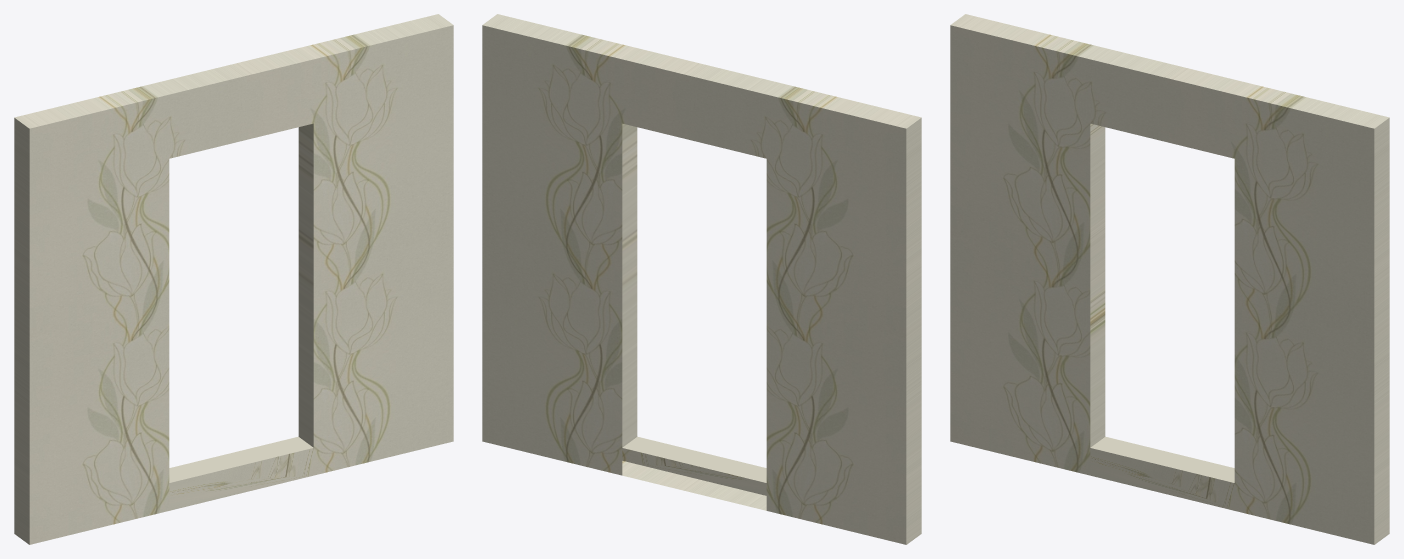
The model's file is Wall with door.fbx.
The picture shows the model from 3 angles, left to right: view 1: azimuth 30°, elevation 25°; view 2: azimuth 150°, elevation 25°; view 3: azimuth 330°, elevation 25°; orthographic projection.
Parts seen in each view (by area): view 1: Plane.022; view 2: Plane.022; view 3: Plane.022.
Boxes of the visible parts, left/top/right/bottom form: Plane.022: left=14, top=14, right=453, bottom=544; Plane.022: left=482, top=14, right=921, bottom=544; Plane.022: left=950, top=14, right=1389, bottom=544.
Bounding box in the file's own units: 320 × 300 × 20.
